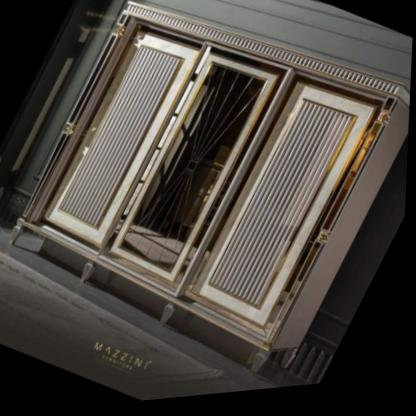Closet: (12, 2, 402, 379)
